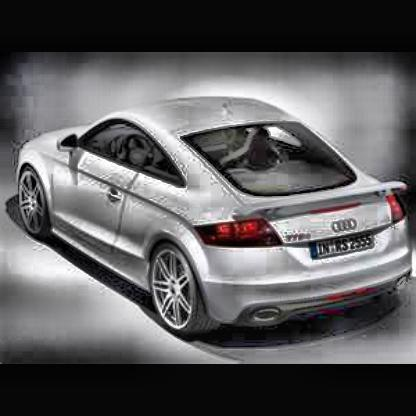Audi TT RS Coupe 2012: (14, 92, 416, 348)
